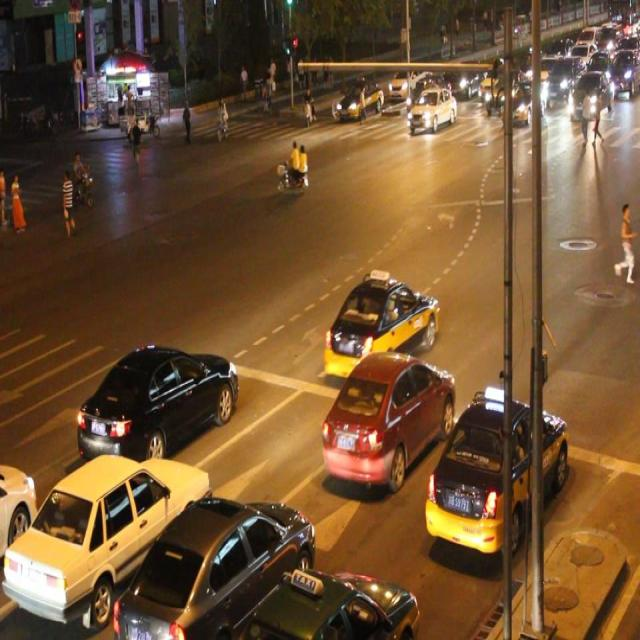car: (1, 449, 209, 622), (113, 493, 316, 640), (421, 392, 570, 556), (76, 340, 235, 464), (320, 350, 456, 489), (239, 562, 420, 640), (324, 276, 436, 378), (1, 460, 39, 558)
